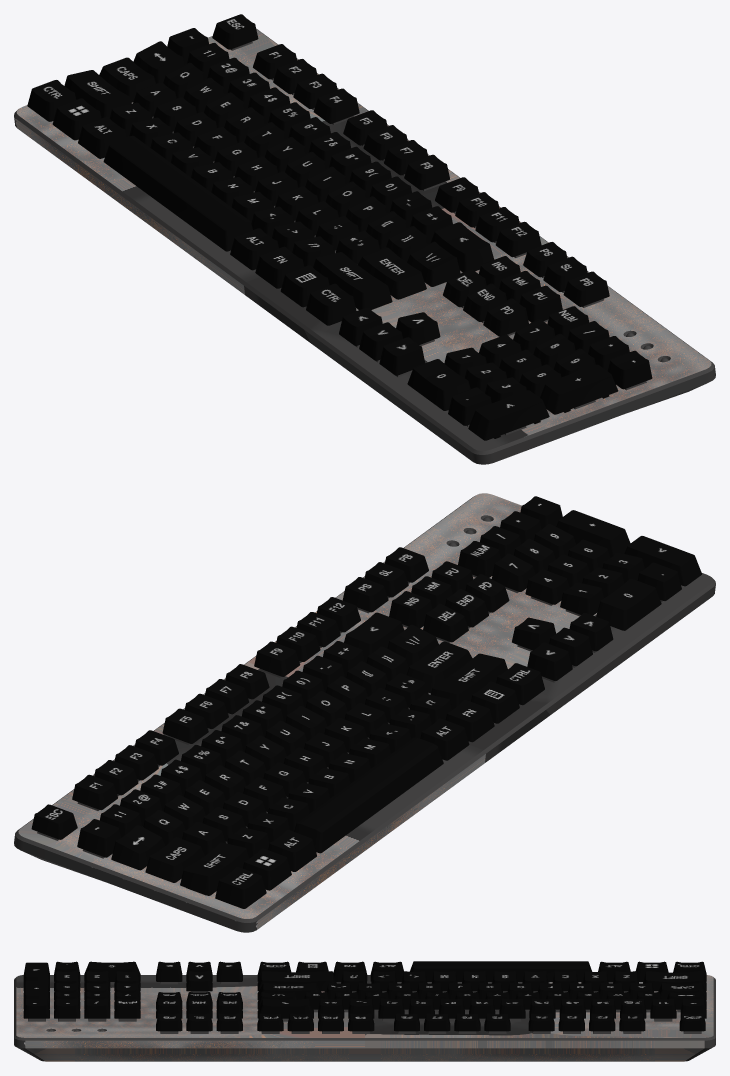
The model's file is Keyboard 1.fbx.
3 views of the same model, one above another, from view 1: azimuth 30°, elevation 25°; view 2: azimuth 150°, elevation 25°; view 3: azimuth 270°, elevation 25° (orthographic). The views are drawn at different scales.
Visible parts, largest first — view 1: keys, keyboard; view 2: keys, keyboard; view 3: keys, keyboard.
Part boxes in pixels (x1=…): keys: x1=27, y1=14, x2=652, y2=440; keyboard: x1=14, y1=28, x2=715, y2=464; keys: x1=31, y1=496, x2=701, y2=908; keyboard: x1=14, y1=493, x2=715, y2=932; keys: x1=23, y1=961, x2=706, y2=1031; keyboard: x1=14, y1=975, x2=715, y2=1061.
Bounding box in the file's own units: 12.04 × 3.1 × 40.6.
